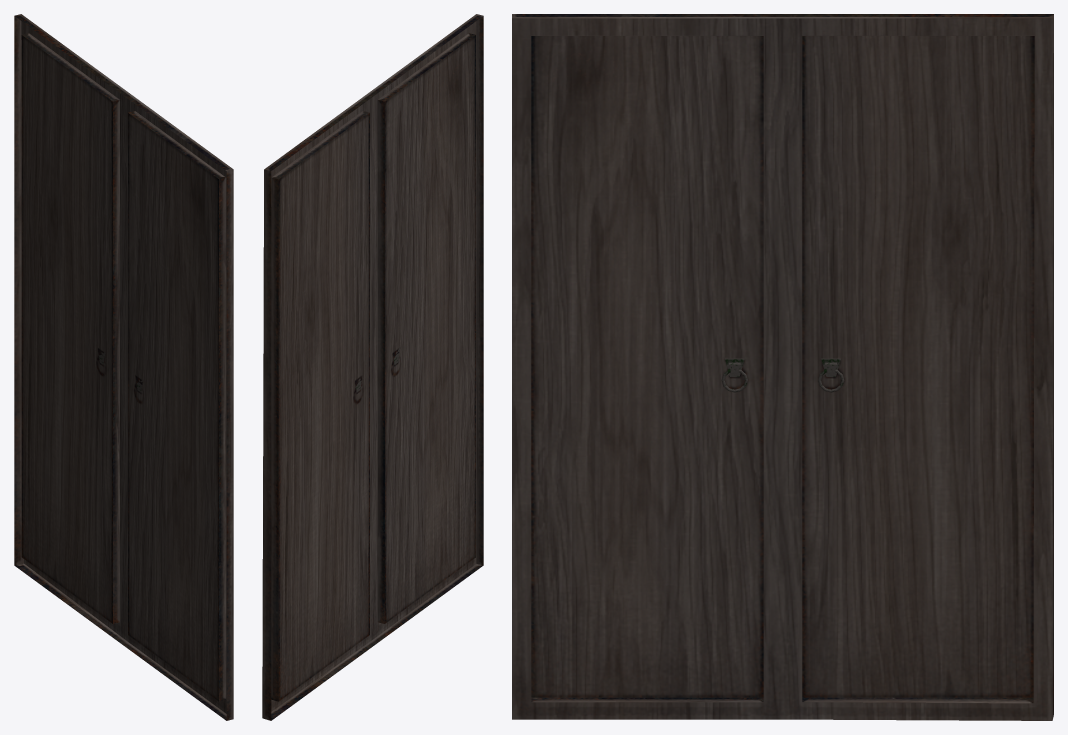
File: DoorShrine.glb
The picture shows the model from 3 angles, left to right: view 1: azimuth 30°, elevation 25°; view 2: azimuth 150°, elevation 25°; view 3: azimuth 270°, elevation 25°; orthographic projection. The views are drawn at different scales.
Visible parts, largest first — view 1: polySurface85_aiStandardSurface14_0.001, polySurface85_aiStandardSurface14_0; view 2: polySurface85_aiStandardSurface14_0, polySurface85_aiStandardSurface14_0.001; view 3: polySurface85_aiStandardSurface14_0.001, polySurface85_aiStandardSurface14_0.
Boxes of the visible parts, x1,y1,x2,y2 form: polySurface85_aiStandardSurface14_0.001: [14, 14, 127, 642]; polySurface85_aiStandardSurface14_0: [120, 92, 233, 720]; polySurface85_aiStandardSurface14_0: [370, 14, 483, 643]; polySurface85_aiStandardSurface14_0.001: [262, 91, 376, 720]; polySurface85_aiStandardSurface14_0.001: [783, 14, 1053, 720]; polySurface85_aiStandardSurface14_0: [512, 14, 782, 719].
Size of the model in its own units: 0.00723 by 0.4033 by 0.2824.
2 materials, 2 textured.
